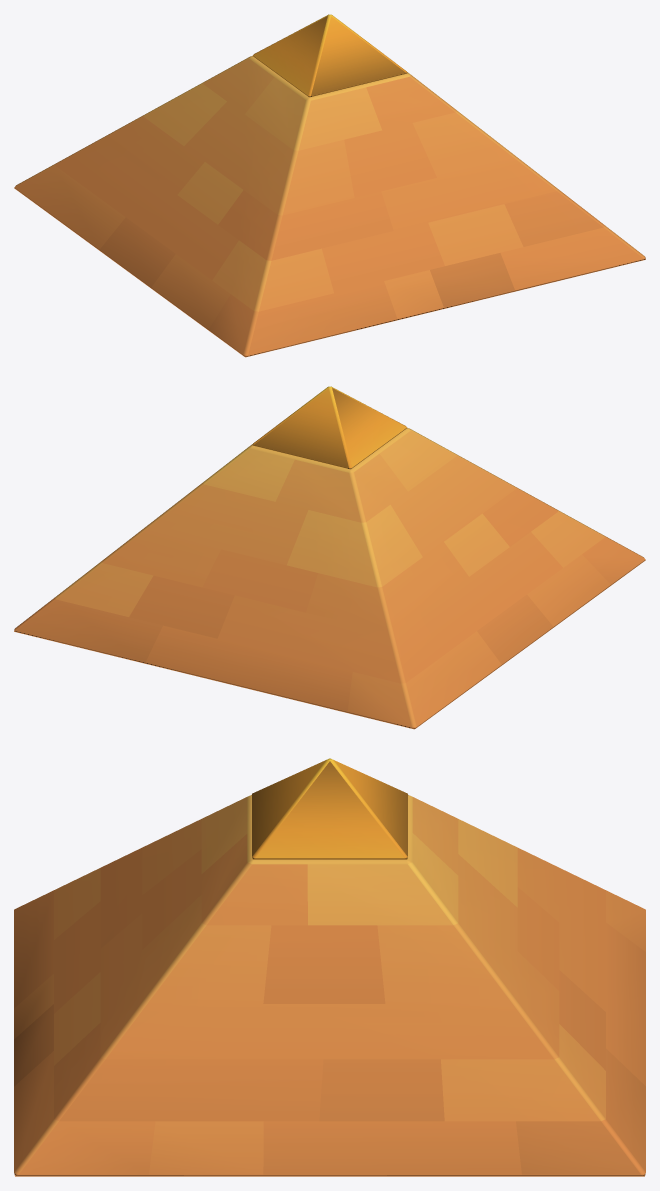
File: pyramid_small.fbx
The picture shows the model from 3 angles, top to bottom: view 1: azimuth 30°, elevation 25°; view 2: azimuth 150°, elevation 25°; view 3: azimuth 270°, elevation 25°; orthographic projection. The views are drawn at different scales.
Visible parts, largest first — view 1: pyramid_small; view 2: pyramid_small; view 3: pyramid_small.
Part boxes in pixels (<box>): pyramid_small: <box>14,14,645,357</box>; pyramid_small: <box>14,386,645,729</box>; pyramid_small: <box>14,758,645,1176</box>.
Size of the model in its own units: 793 by 393 by 793.
